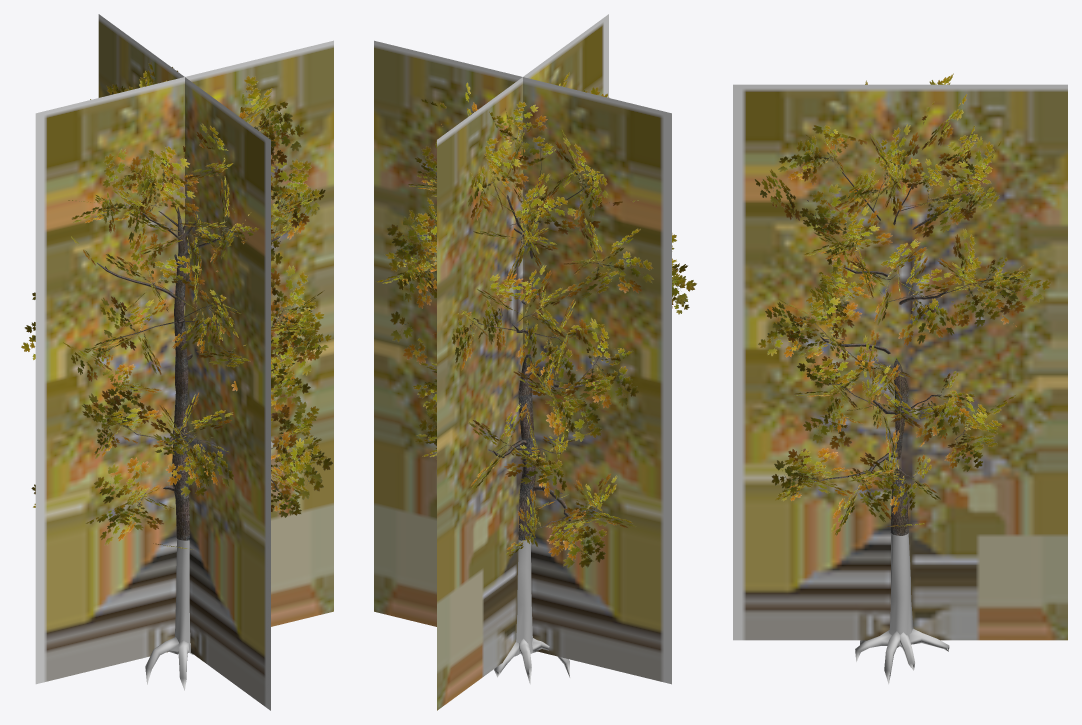
Rendered from Tree-Maple0B.fbx.
3 views of the same model, side by side, from view 1: azimuth 30°, elevation 25°; view 2: azimuth 150°, elevation 25°; view 3: azimuth 270°, elevation 25° (orthographic). The views are drawn at different scales.
Parts seen in each view (by area): view 1: Billboard-MapleB, Tree-Maple0B_LOD0; view 2: Billboard-MapleB, Tree-Maple0B_LOD0; view 3: Billboard-MapleB, Tree-Maple0B_LOD0.
Boxes of the visible parts, x1,y1,x2,y2 form: Billboard-MapleB: [35, 14, 333, 710]; Tree-Maple0B_LOD0: [21, 62, 332, 690]; Billboard-MapleB: [374, 14, 671, 710]; Tree-Maple0B_LOD0: [376, 72, 696, 684]; Billboard-MapleB: [733, 84, 1067, 640]; Tree-Maple0B_LOD0: [754, 73, 1051, 684].
Size of what is drawn, in the model's own units: 1513 by 2900 by 1513.
